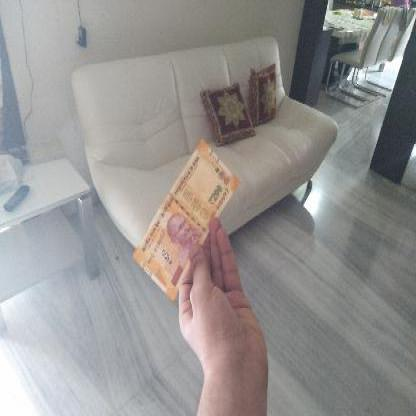New200Front: (142, 137, 235, 291)
